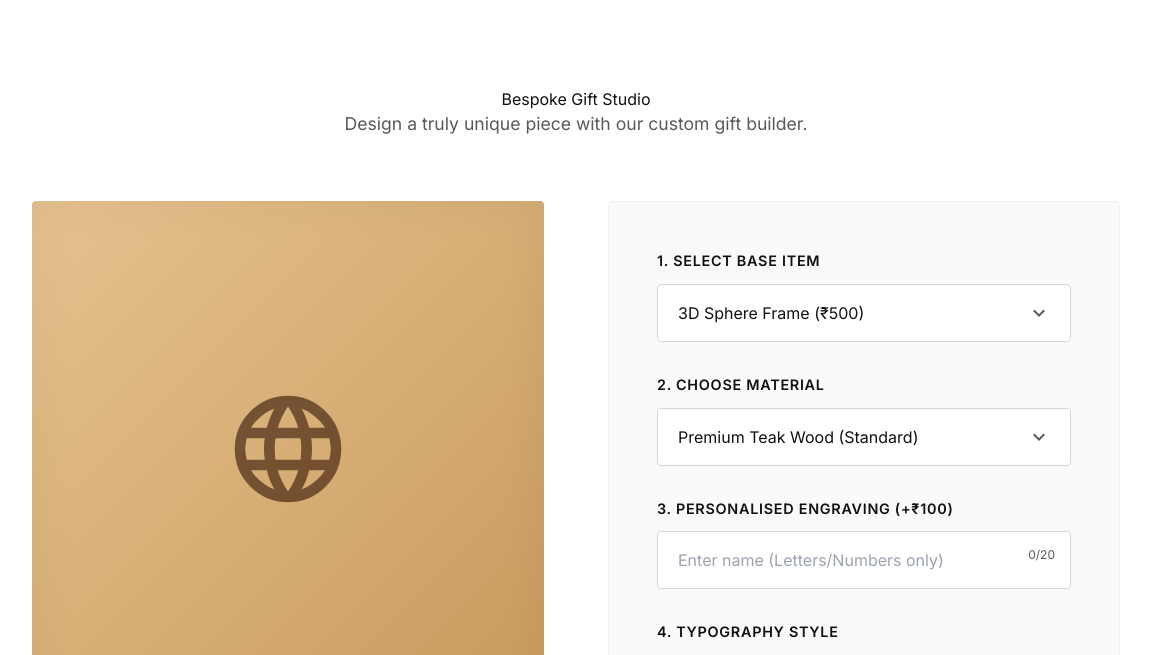
BuildPage Security & Functional Tests › FUNC-002: Base Price calculation updates properly
The image size is (1152, 655).
Select "Premium Watch (₹1200)" in the dropdown labelled "1. Select Base Item". click: (864, 313)
box: x1=657 y1=284 x2=1071 y2=342
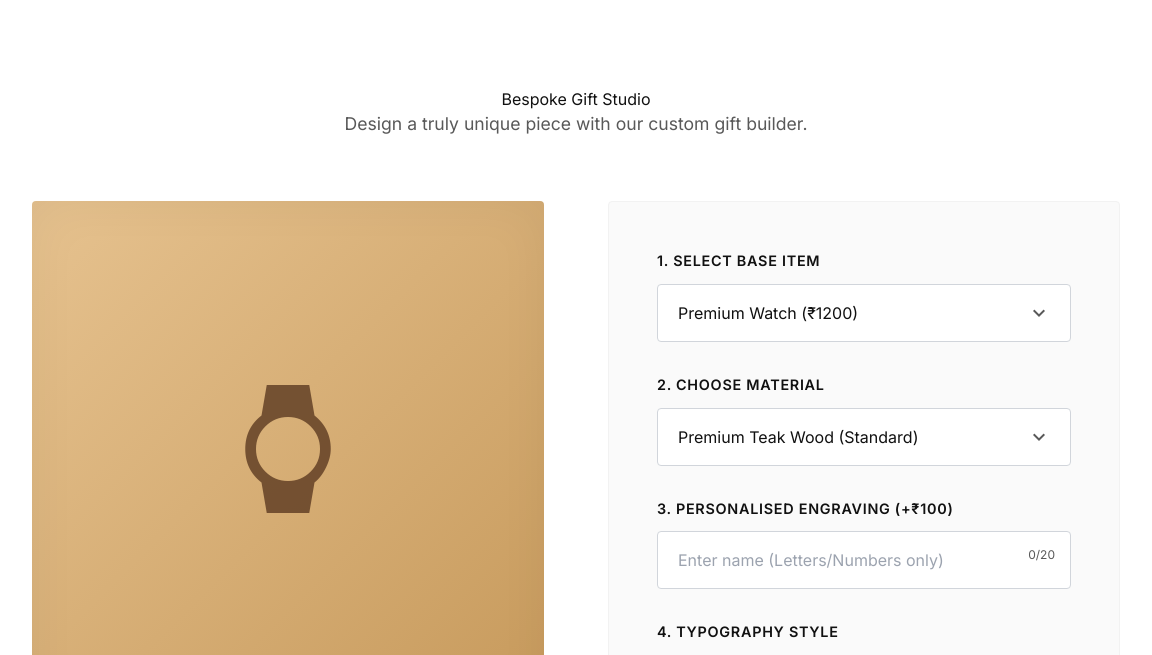
Select "Solid Crystal (+50%)" in the dropdown labelled "2. Choose Material". click: (864, 437)
box: x1=657 y1=408 x2=1071 y2=466
(page scrolled)
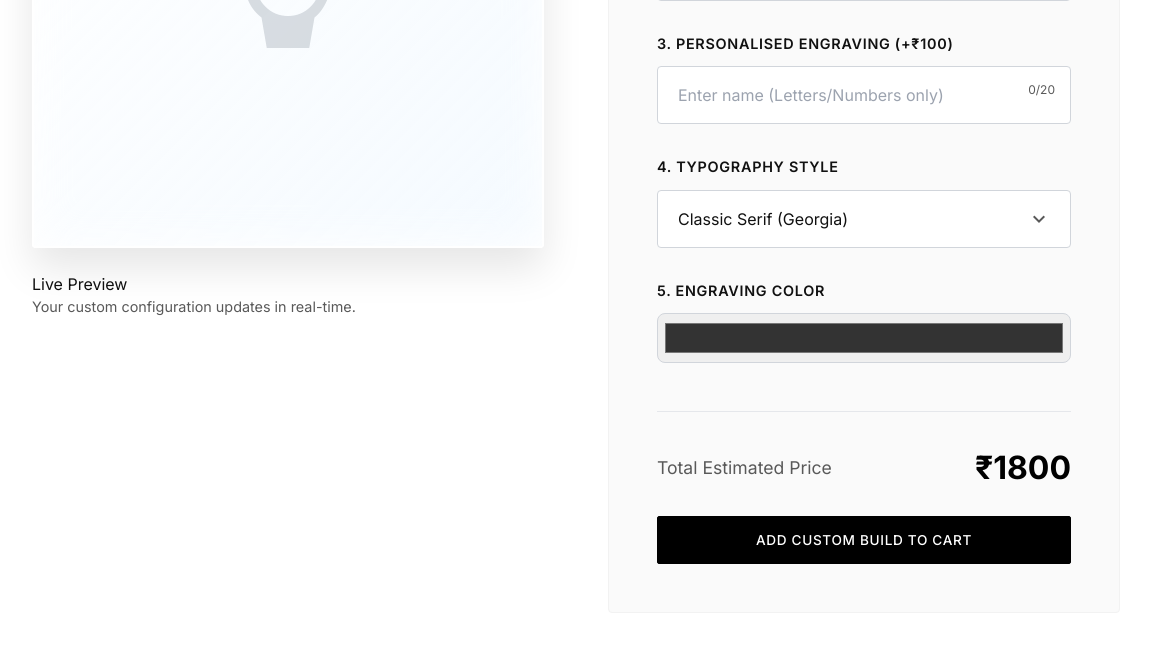
expect the text "₹1800" is shown: met, box x1=975 y1=444 x2=1071 y2=492
